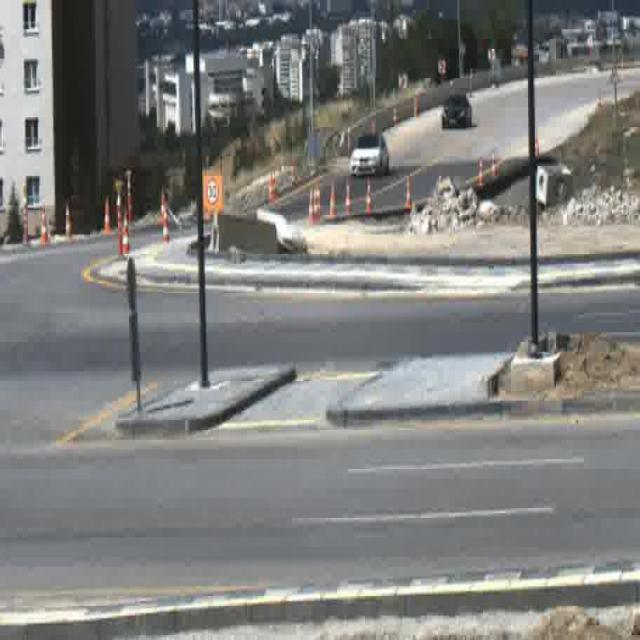Car: (349, 134, 389, 179), (442, 94, 472, 132)
